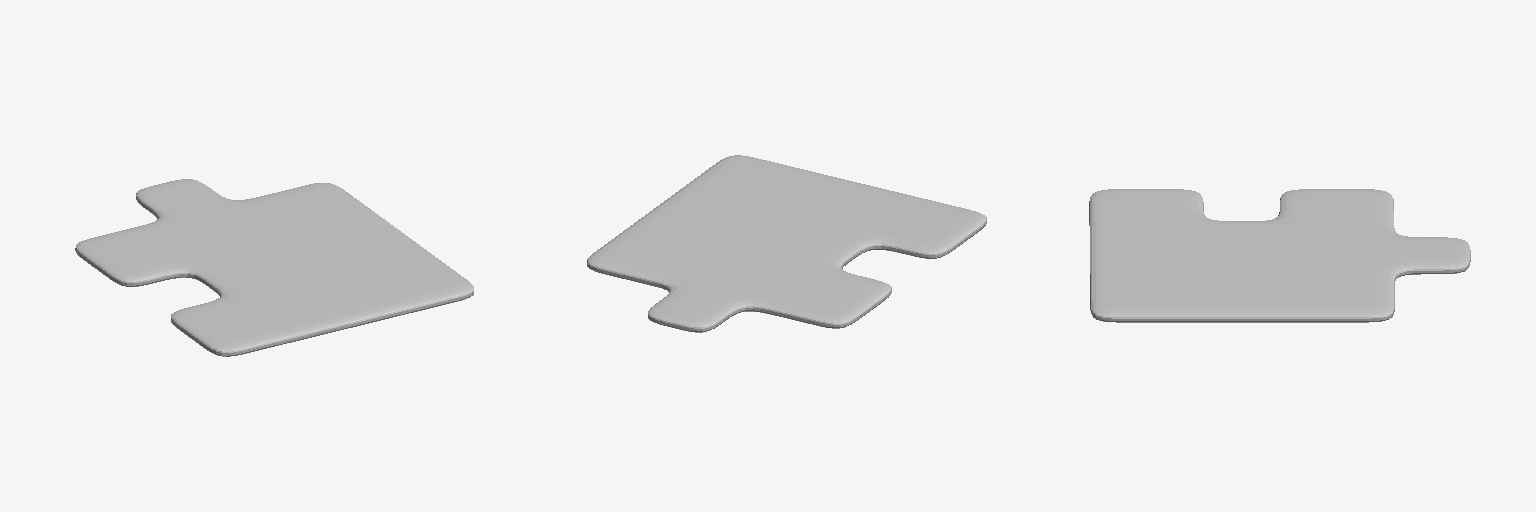
File: GoldenPuzzle-20-OOFM.obj
3 renders of one model, left to right at view 1: azimuth 30°, elevation 25°; view 2: azimuth 150°, elevation 25°; view 3: azimuth 270°, elevation 25°, orthographic.
Parts seen in each view (by area): view 1: Puzzle.020; view 2: Puzzle.020; view 3: Puzzle.020.
Part boxes in pixels (x1,y1,x2,y2): Puzzle.020: (75,179,473,356); Puzzle.020: (587,155,986,332); Puzzle.020: (1089,189,1470,322).
Bounding box in the file's own units: 0.25 × 0.0092 × 0.3137.